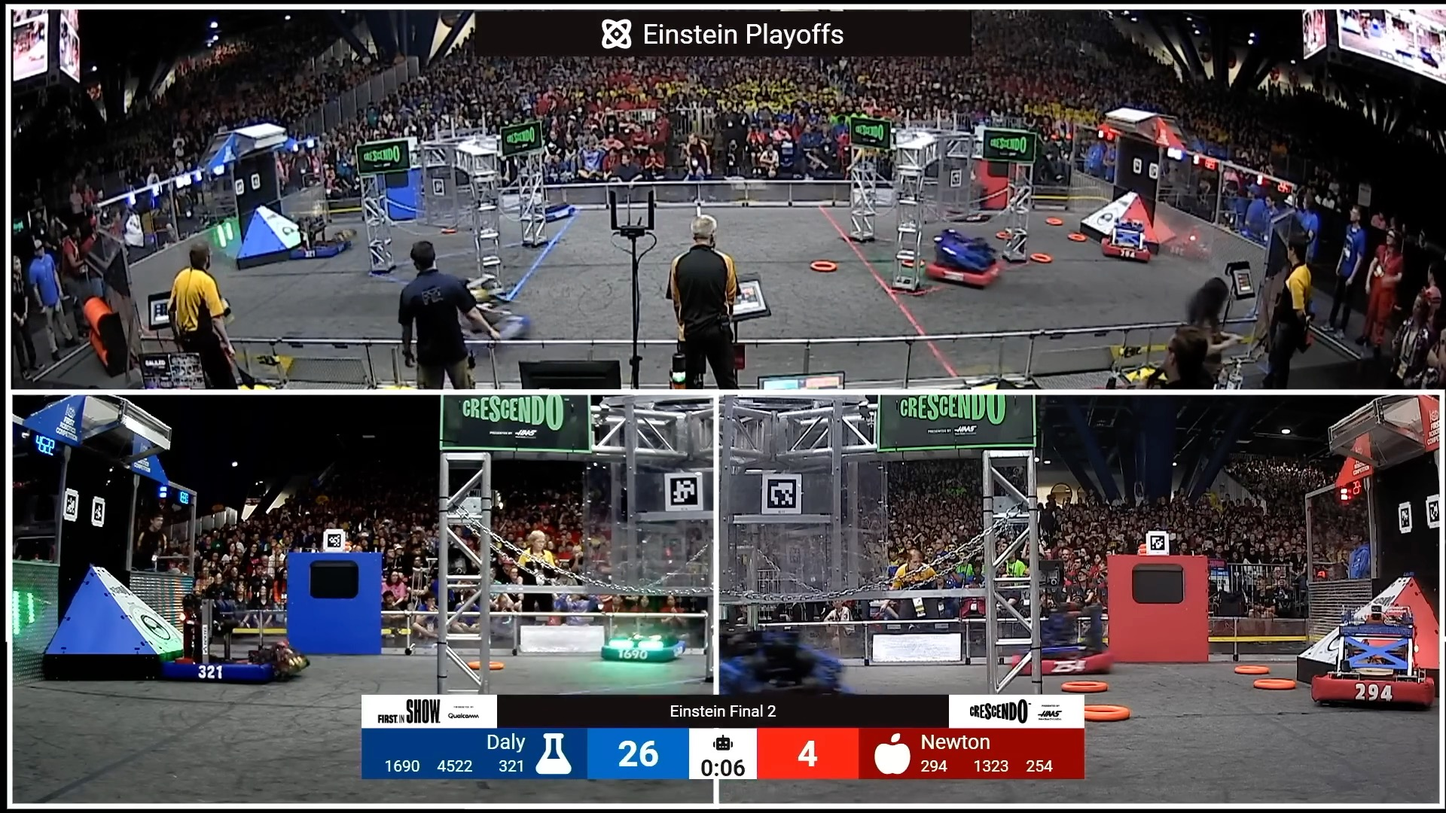bumpers: (1309, 670, 1439, 707), (918, 249, 1020, 294), (161, 659, 295, 692), (1086, 221, 1176, 267), (457, 311, 536, 353), (1002, 652, 1119, 676), (291, 238, 355, 260), (521, 208, 581, 227)
